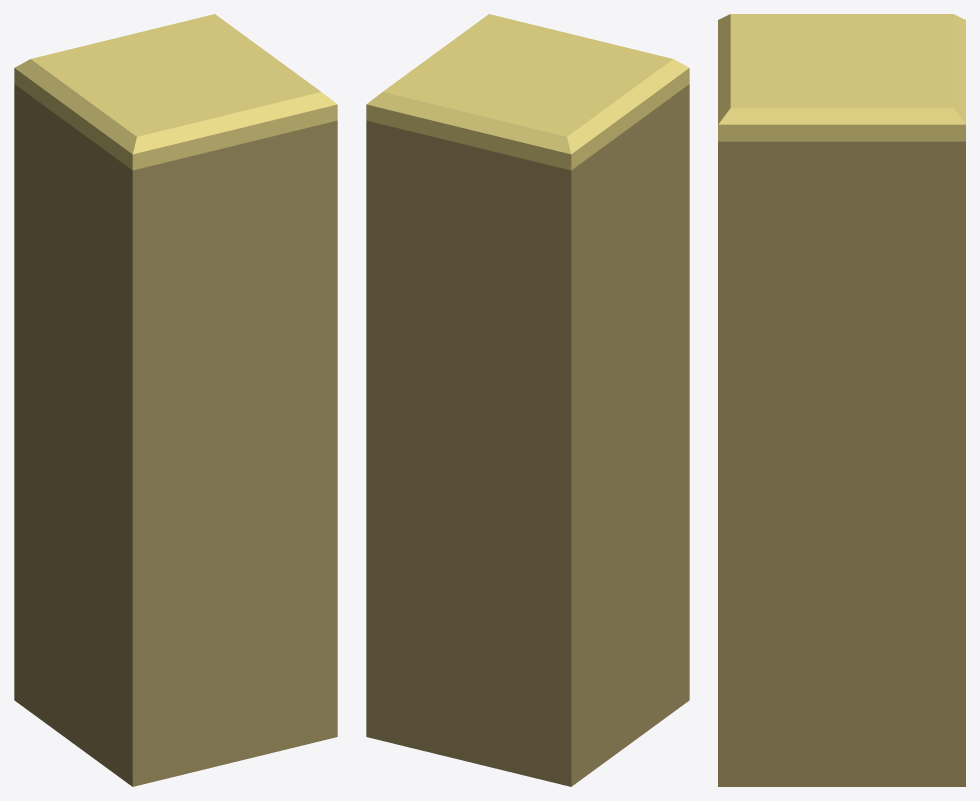
File: Cliff2.fbx
3 renders of one model, left to right at view 1: azimuth 30°, elevation 25°; view 2: azimuth 150°, elevation 25°; view 3: azimuth 270°, elevation 25°, orthographic. The views are drawn at different scales.
Visible parts, largest first — view 1: Cube; view 2: Cube; view 3: Cube.
Boxes of the visible parts, x1,y1,x2,y2 form: Cube: (14,14,337,786); Cube: (366,14,689,786); Cube: (718,14,965,786).
Size of the model in its own units: 2 by 6 by 2.
